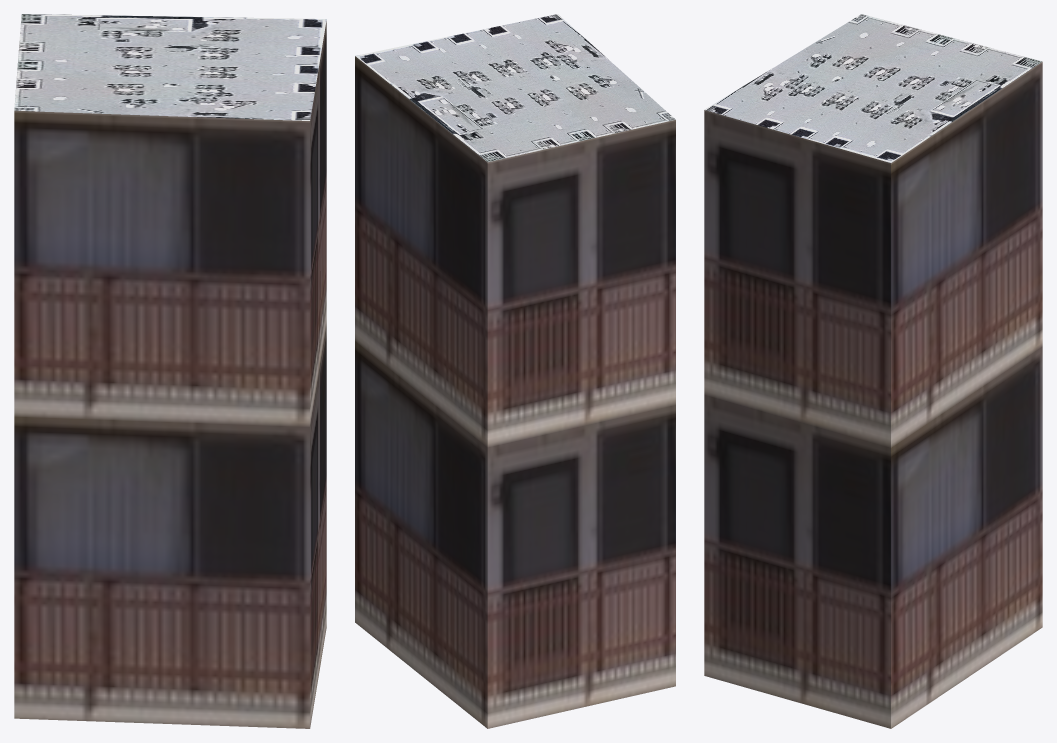
The model's file is ResTex__989.fbx.
3 renders of one model, left to right at view 1: azimuth 30°, elevation 25°; view 2: azimuth 150°, elevation 25°; view 3: azimuth 270°, elevation 25°, orthographic. The views are drawn at different scales.
Visible parts, largest first — view 1: CityEngineMaterial_6_m, CityEngineMaterial_2_m; view 2: CityEngineMaterial_6_m, CityEngineMaterial_2_m; view 3: CityEngineMaterial_6_m, CityEngineMaterial_2_m.
Part boxes in pixels (x1,y1,x2,y2): CityEngineMaterial_6_m: [14, 21, 326, 728]; CityEngineMaterial_2_m: [14, 14, 326, 120]; CityEngineMaterial_6_m: [355, 56, 675, 728]; CityEngineMaterial_2_m: [355, 14, 675, 162]; CityEngineMaterial_6_m: [704, 62, 1042, 728]; CityEngineMaterial_2_m: [704, 14, 1042, 162].
Bounding box in the file's own units: 3.39 × 6 × 3.25.
2 materials, 2 textured.
